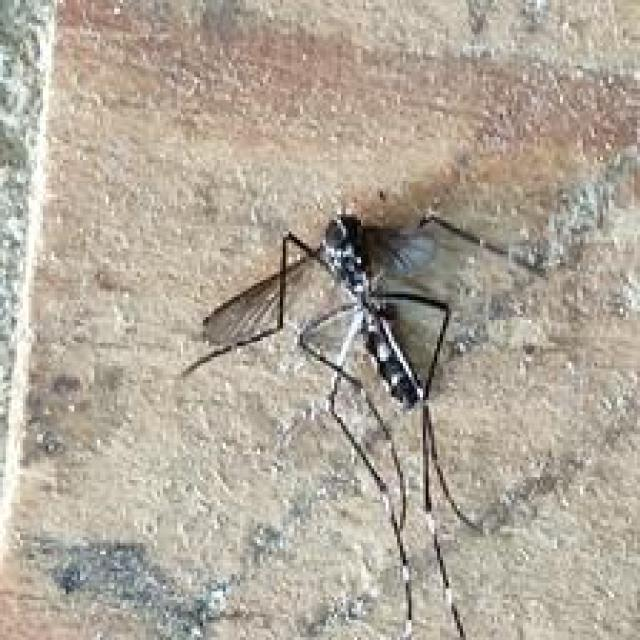Aedes albopictus: (179, 203, 550, 640)
